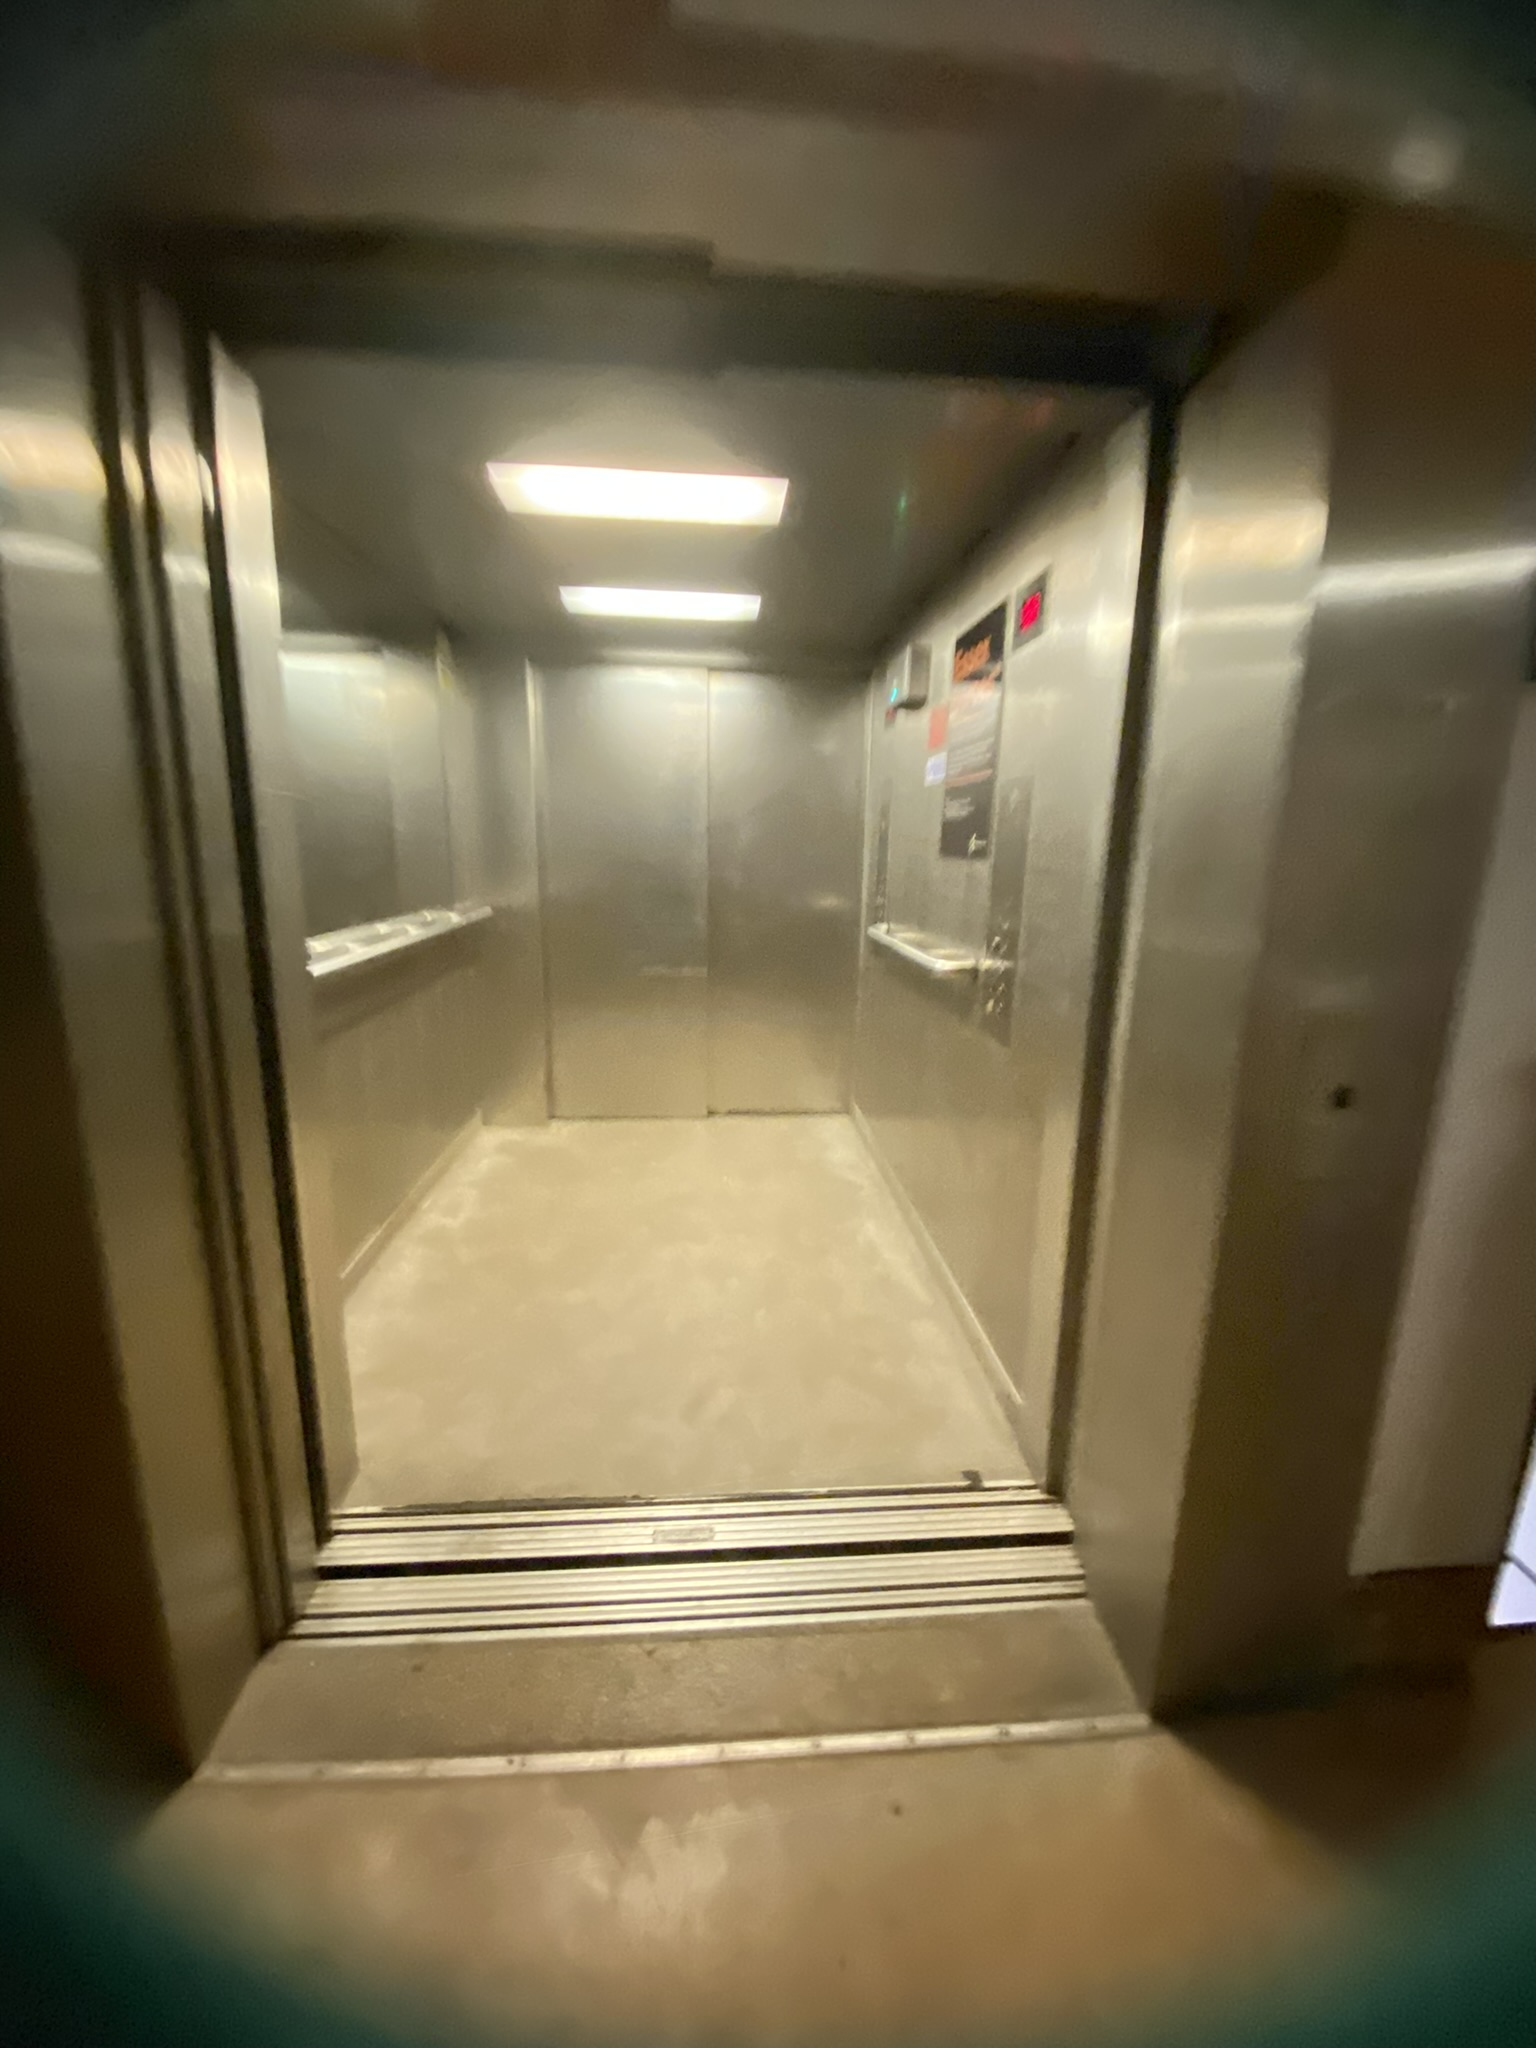lift: (94, 173, 1517, 1595)
